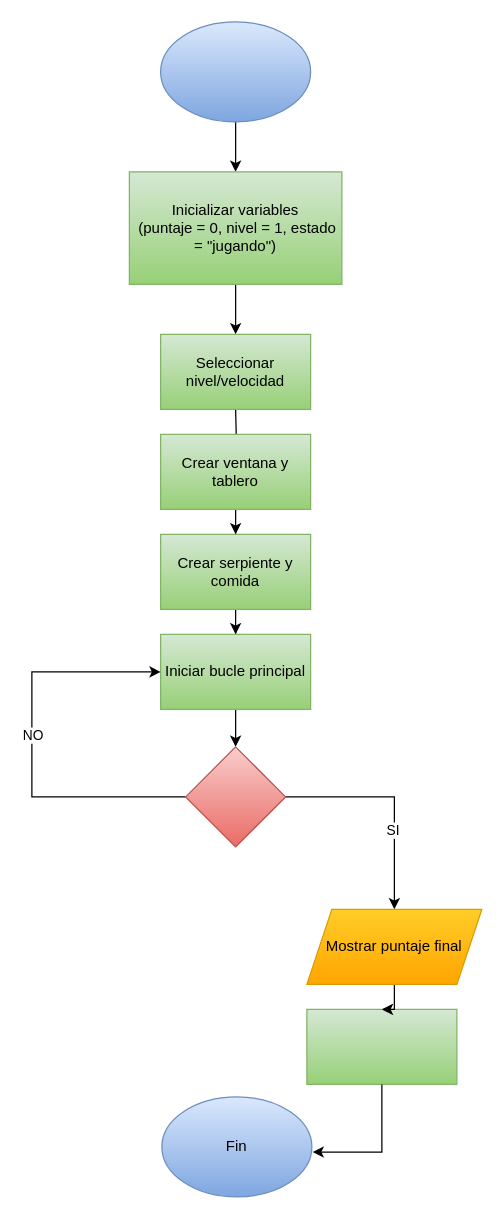
Image size: 504x1219. Some labels were removed from this diagram. The centre of each missing label's shape, as x and y in pixels:
Guardar récord en nube: pixel 381 1046
INICIO: pixel 235 71
¿Juego terminado?: pixel 235 796
